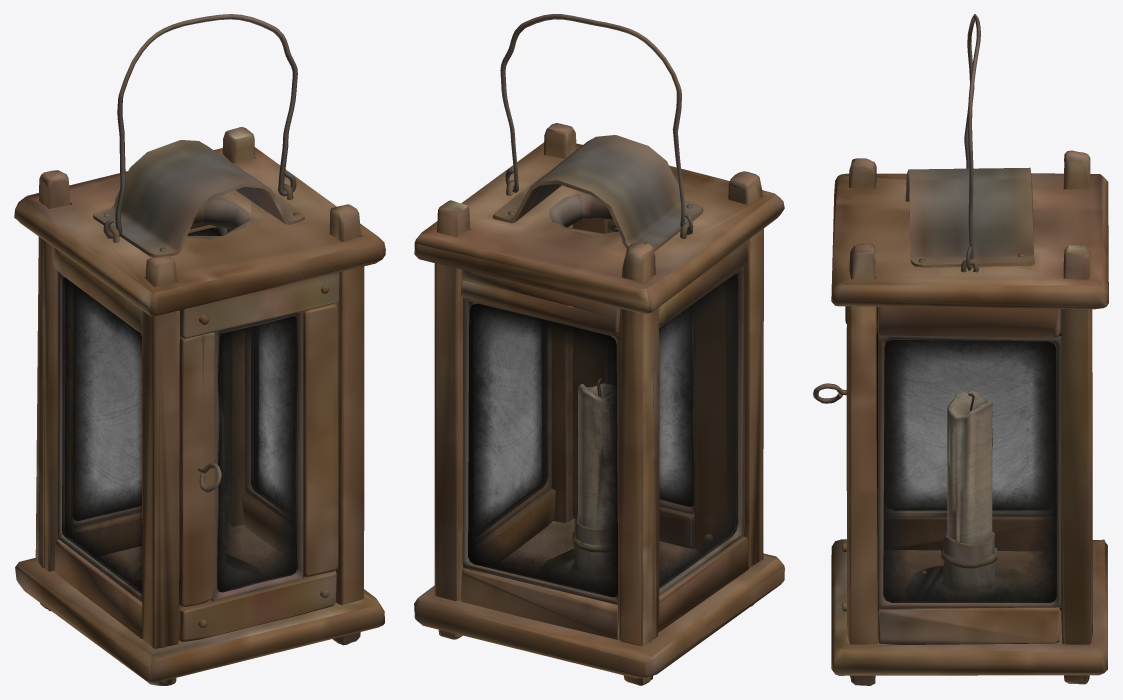
The picture shows the model from 3 angles, left to right: view 1: azimuth 30°, elevation 25°; view 2: azimuth 150°, elevation 25°; view 3: azimuth 270°, elevation 25°; orthographic projection.
Parts seen in each view (by area): view 1: wooden_lantern_01, wooden_lantern_01_door, wooden_lantern_01_handle; view 2: wooden_lantern_01, wooden_lantern_01_door, wooden_lantern_01_handle; view 3: wooden_lantern_01, wooden_lantern_01_handle, wooden_lantern_01_door.
Part boxes in pixels (x1,y1,x2,y2): wooden_lantern_01: (14, 127, 385, 685); wooden_lantern_01_door: (179, 272, 339, 642); wooden_lantern_01_handle: (103, 14, 297, 238); wooden_lantern_01: (414, 123, 784, 685); wooden_lantern_01_door: (573, 218, 725, 550); wooden_lantern_01_handle: (500, 14, 693, 235); wooden_lantern_01: (831, 150, 1108, 685); wooden_lantern_01_handle: (964, 14, 980, 271); wooden_lantern_01_door: (813, 306, 847, 625).
Bounding box in the file's own units: 0.2207 × 0.5301 × 0.2342.
Materials: 2 (2 with a texture image).
